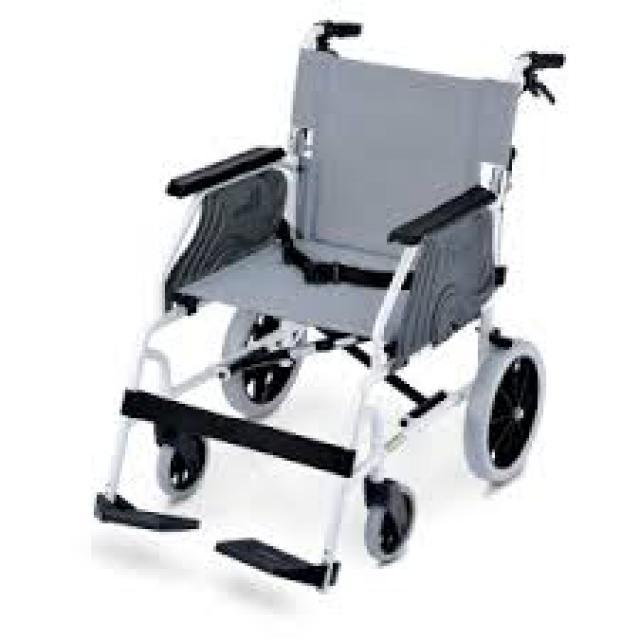wheelchair: (76, 14, 574, 603)
